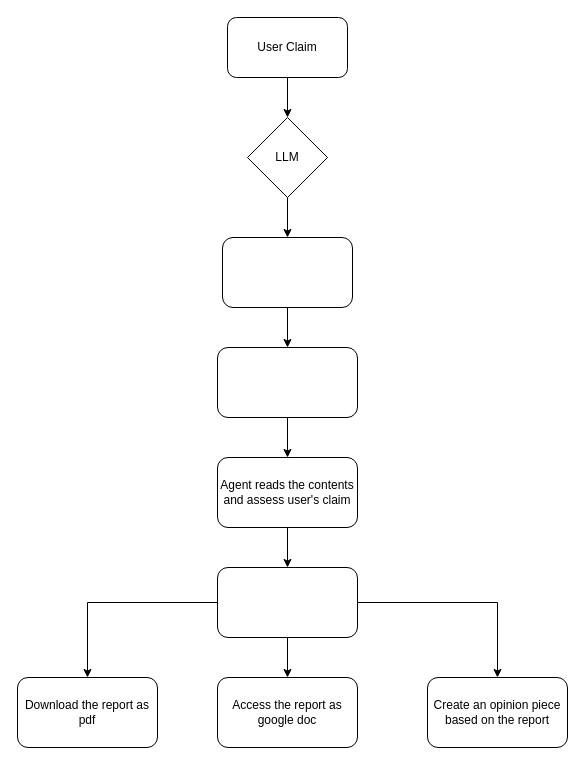
The diagram is 585 pixels wide and 765 high, and some of its shapes have lost their labels. Each missing label, with the centre of its shape:
Agent generates a report: point 287,602
Find News URLs related to the claim (Duckduckgo, Tavily, Serper): point 287,272
UnstructuredUrlLoader gets the content from the URL: point 287,382
